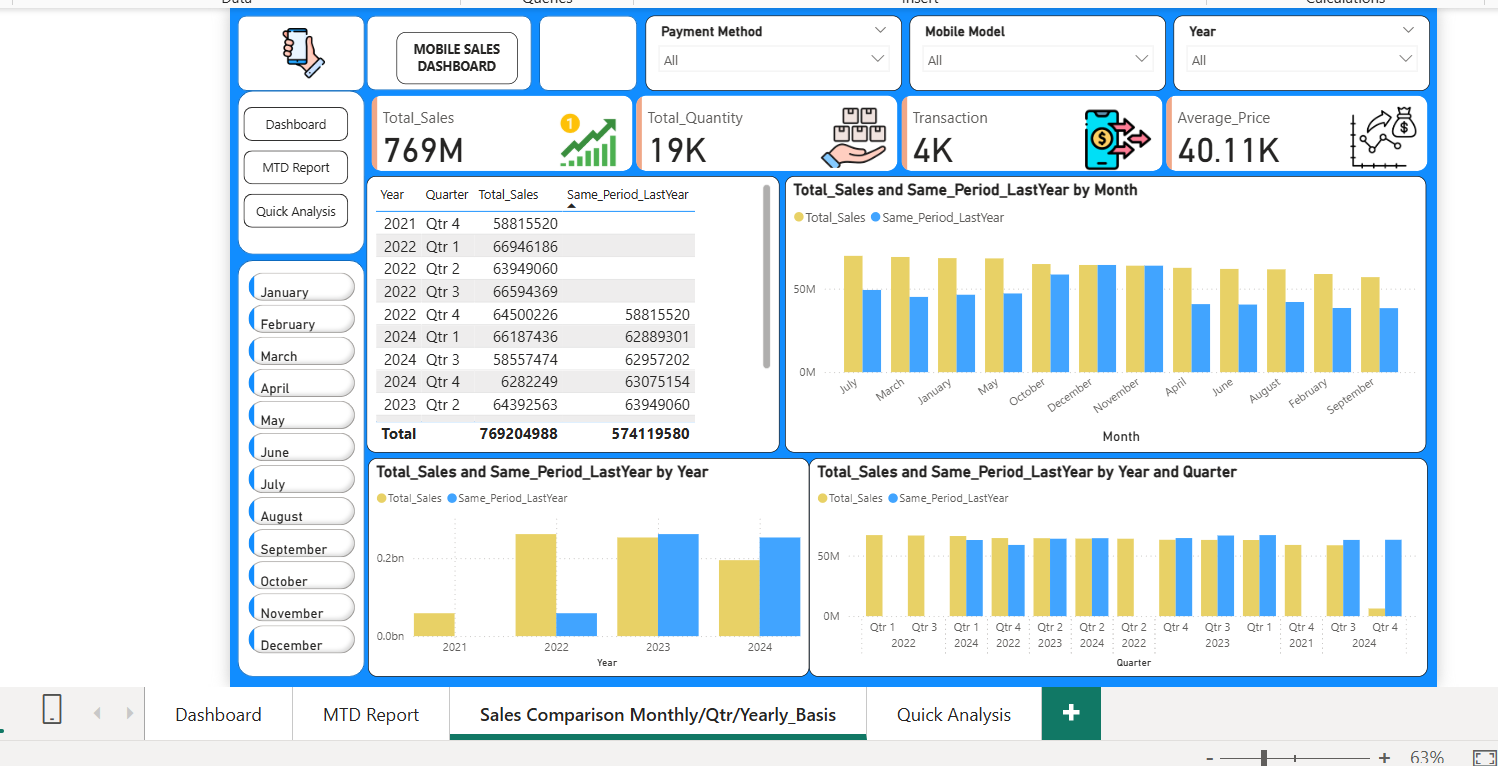

The page's visual inventory and layout, read from the dashboard file:
{"tool":"powerbi","page":{"name":"Sales Comparison Monthly/Qtr/Yearly_Basis","canvas":[1280,720],"ordinal":2},"visuals":[{"type":"shape","box":[8,8,135,80],"z":0},{"type":"image","box":[21.7,16.7,111.7,63.3],"z":1000},{"type":"shape","box":[8,88,135,174],"z":2000},{"type":"cardVisual","fields":{"Data":["Mobile_sales.Total_Sales","Mobile_sales.Total_Quantity","Mobile_sales.Transaction","Mobile_sales.Average_Price"]},"box":[144,88,1130,90],"z":3000},{"type":"slicer","fields":{"Values":["Mobile_sales.Mobile Model"]},"box":[720,8,272,80],"z":4000},{"type":"slicer","fields":{"Values":["Mobile_sales.Payment Method"]},"box":[440,8,272,80],"z":5000},{"type":"slicer","fields":{"Values":["Date.Date.Variation.Date Hierarchy.Year"]},"box":[1000,8,272,80],"z":6000},{"type":"shape","box":[328,8,104,80],"z":7000},{"type":"shape","box":[145.2,8.6,175.3,79.6],"z":8000},{"type":"textbox","box":[176.7,25,128.3,55],"z":9000},{"type":"shape","box":[8,267,135,442],"z":10000},{"type":"advancedSlicerVisual","fields":{"Values":["Date.Date.Variation.Date Hierarchy.Month"]},"box":[14.3,275.8,123.1,423.1],"z":11000},{"type":"tableEx","fields":{"Values":["Date.Date.Variation.Date Hierarchy.Year","Date.Date.Variation.Date Hierarchy.Quarter","Mobile_sales.Total_Sales","Mobile_sales.Same_Period_LastYear"]},"box":[145,178.3,438,293.3],"z":12000},{"type":"clusteredColumnChart","fields":{"Y":["Mobile_sales.Total_Sales","Mobile_sales.Same_Period_LastYear"],"Category":["Date.Date.Variation.Date Hierarchy.Year","Date.Date.Variation.Date Hierarchy.Quarter","Date.Date.Variation.Date Hierarchy.Month","Date.Date.Variation.Date Hierarchy.Day"]},"box":[588.3,178.3,680,293.3],"z":13000},{"type":"clusteredColumnChart","fields":{"Category":["Date.Date.Variation.Date Hierarchy.Year"],"Y":["Mobile_sales.Total_Sales","Mobile_sales.Same_Period_LastYear"]},"box":[145.6,476.7,467.8,232.2],"z":14000},{"type":"clusteredColumnChart","fields":{"Category":["Date.Date.Variation.Date Hierarchy.Year","Date.Date.Variation.Date Hierarchy.Quarter"],"Y":["Mobile_sales.Total_Sales","Mobile_sales.Same_Period_LastYear"]},"box":[614.4,476.8,656,232],"z":15000},{"type":"pageNavigator","box":[15,105,111.7,130],"z":16000}]}

Visuals, with their boxes on the page's 1280x720 design canvas (x1, y1, x2, y2). These are canvas units, not pixel positions in the 1498x766 screenshot, which may show the page scaled, cropped or inside an application window:
shape: l=8, t=8, r=143, b=88
image: l=22, t=17, r=133, b=80
shape: l=8, t=88, r=143, b=262
cardVisual - Mobile_sales.Total_Sales x Mobile_sales.Total_Quantity: l=144, t=88, r=1274, b=178
slicer - Mobile_sales.Mobile Model: l=720, t=8, r=992, b=88
slicer - Mobile_sales.Payment Method: l=440, t=8, r=712, b=88
slicer - Date.Date.Variation.Date Hierarchy.Year: l=1000, t=8, r=1272, b=88
shape: l=328, t=8, r=432, b=88
shape: l=145, t=9, r=320, b=88
textbox: l=177, t=25, r=305, b=80
shape: l=8, t=267, r=143, b=709
advancedSlicerVisual - Date.Date.Variation.Date Hierarchy.Month: l=14, t=276, r=137, b=699
tableEx - Date.Date.Variation.Date Hierarchy.Year x Date.Date.Variation.Date Hierarchy.Quarter: l=145, t=178, r=583, b=472
clusteredColumnChart - Mobile_sales.Total_Sales x Mobile_sales.Same_Period_LastYear: l=588, t=178, r=1268, b=472
clusteredColumnChart - Date.Date.Variation.Date Hierarchy.Year x Mobile_sales.Total_Sales: l=146, t=477, r=613, b=709
clusteredColumnChart - Date.Date.Variation.Date Hierarchy.Year x Date.Date.Variation.Date Hierarchy.Quarter: l=614, t=477, r=1270, b=709
pageNavigator: l=15, t=105, r=127, b=235
